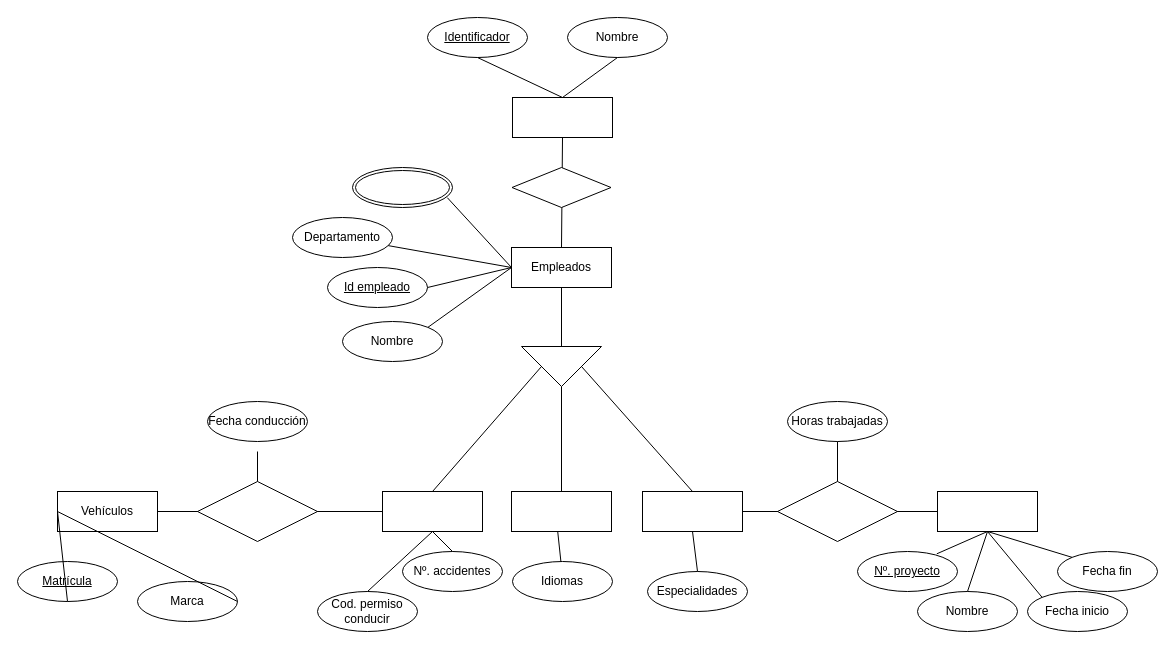
This 1175x649 diagram has some shape labels left out. Here are the shapes that lost their labels. From the top down, the centre of each, then its label:
At point (562, 117): "Departamentos".
At point (402, 187): "Correos electrónicos".
At point (561, 187): "tienen".
At point (561, 366): "Son".
At point (257, 511): "Conducen".
At point (432, 511): "Conductores".
At point (561, 511): "Administrativos".
At point (692, 511): "Técnicos".
At point (837, 511): "realizan".
At point (987, 511): "Proyectos".
